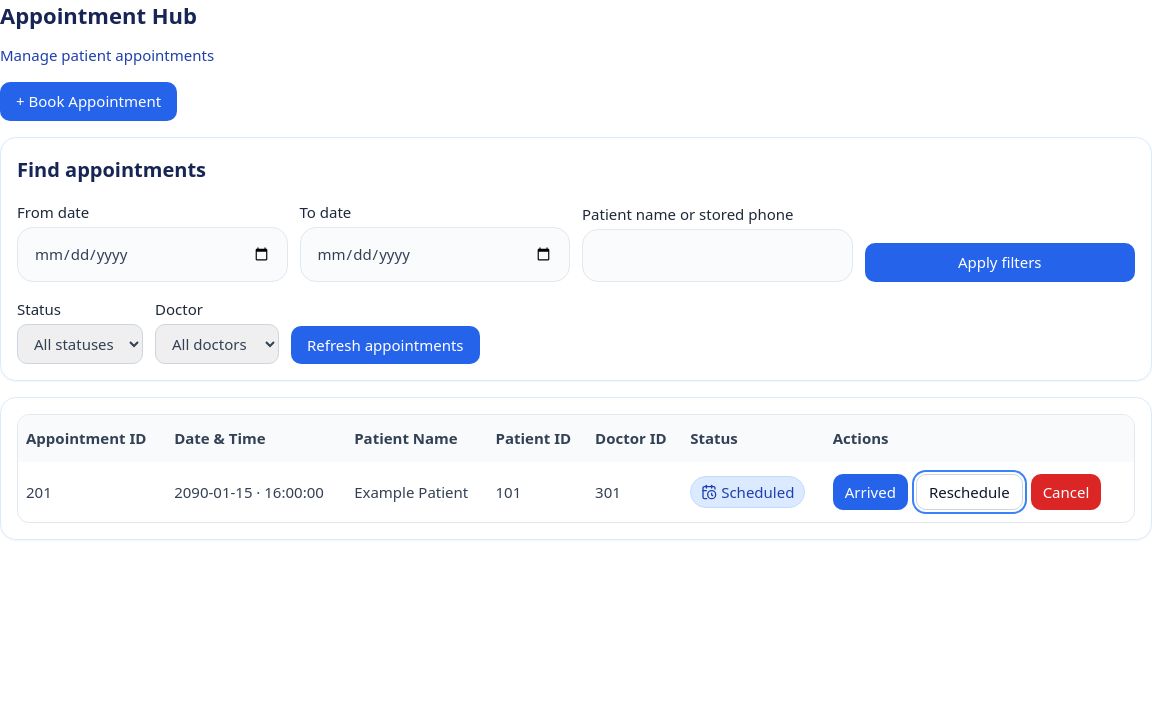
Scenario: ADM-05 appointment hub › traps focus, closes with Escape, and returns focus without rescheduling
Click the button with aria-label "Reschedule appointment 201".
click(969, 492)  # box [916,474,1023,510]
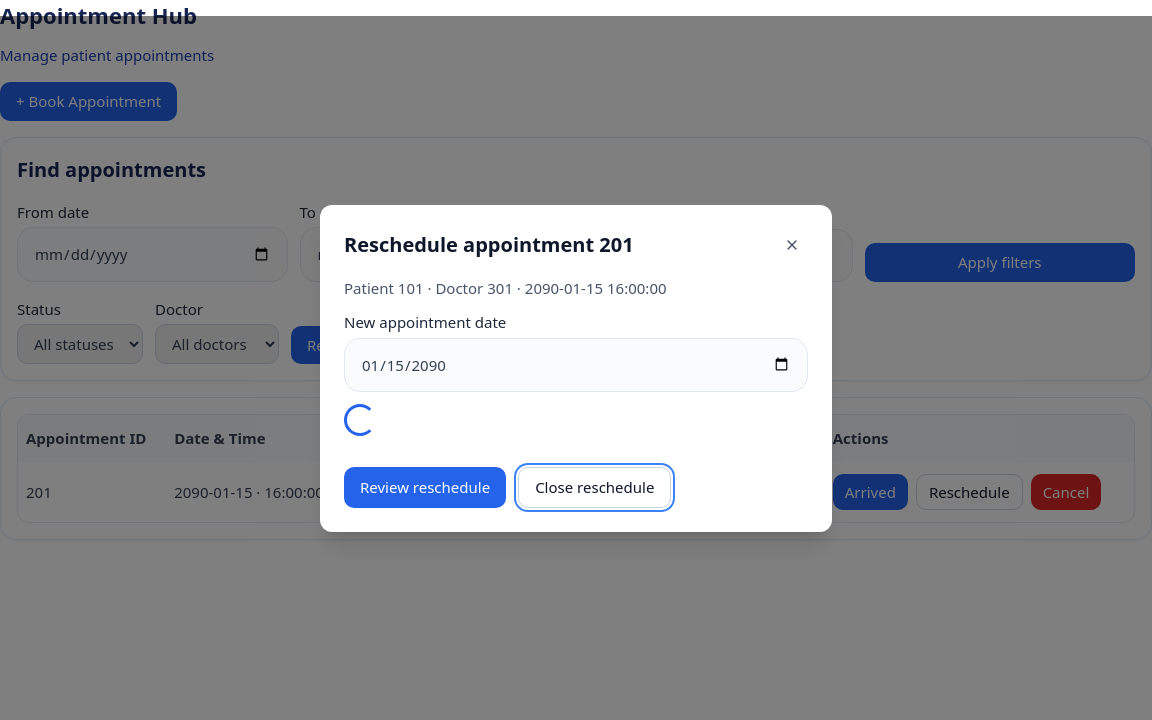
Press Tab in the button "Close reschedule", box [518,467,671,508]
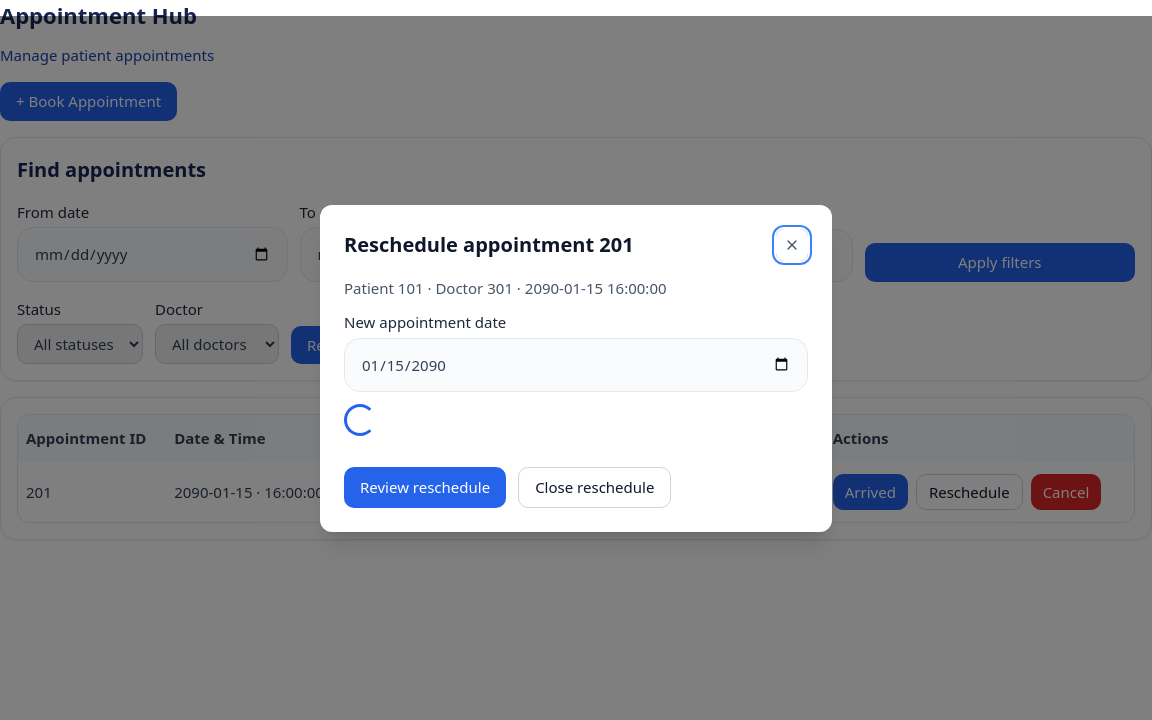
Press Escape
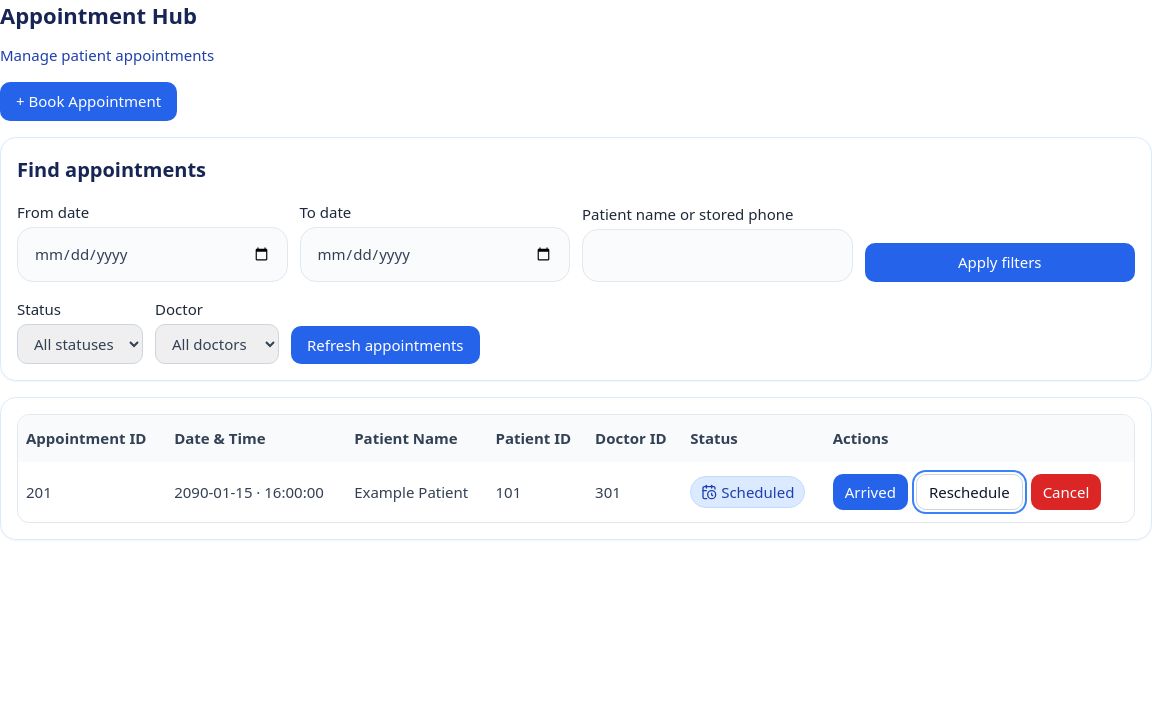
Now the dialog is gone
